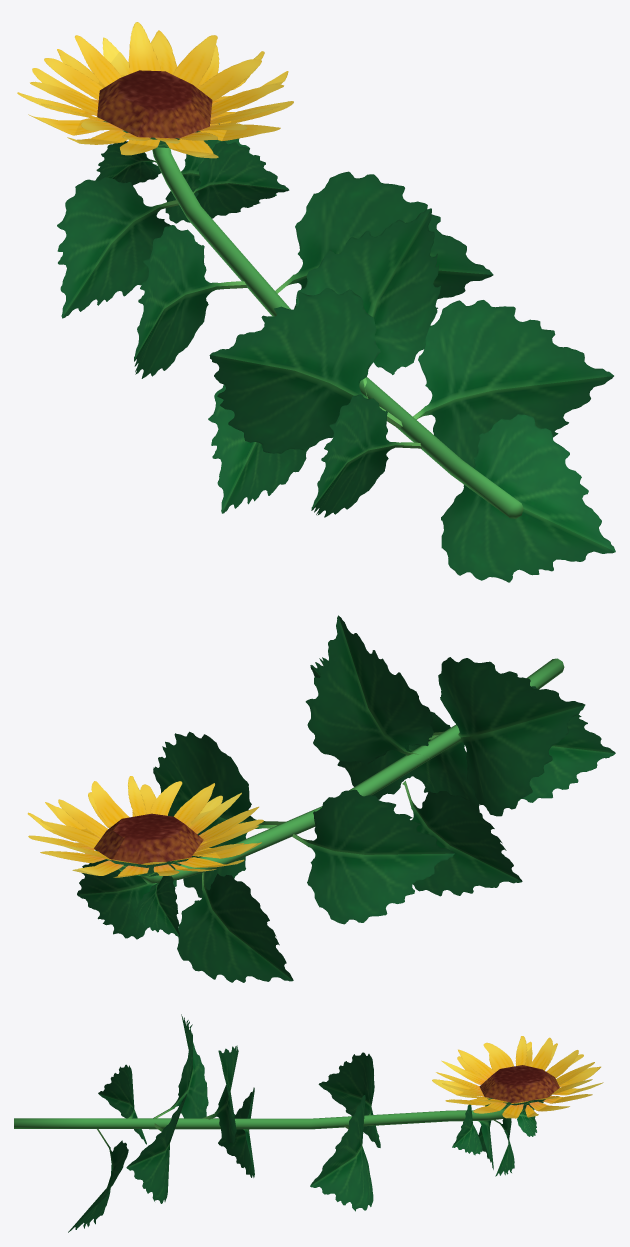
Rendered from SM_Sunflower_Big.fbx.
3 renders of one model, top to bottom at view 1: azimuth 30°, elevation 25°; view 2: azimuth 150°, elevation 25°; view 3: azimuth 270°, elevation 25°, orthographic. The views are drawn at different scales.
Visible parts, largest first — view 1: Sunflower_Big; view 2: Sunflower_Big; view 3: Sunflower_Big.
Boxes of the visible parts, bbox=[...] form: Sunflower_Big: bbox=[17, 22, 615, 582]; Sunflower_Big: bbox=[27, 615, 615, 982]; Sunflower_Big: bbox=[14, 1014, 603, 1232].
Bounding box in the file's own units: 219 × 160 × 481.
